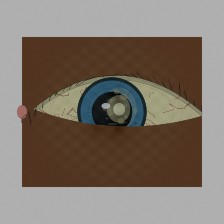corneal_ulcer: (96, 91, 141, 127)
